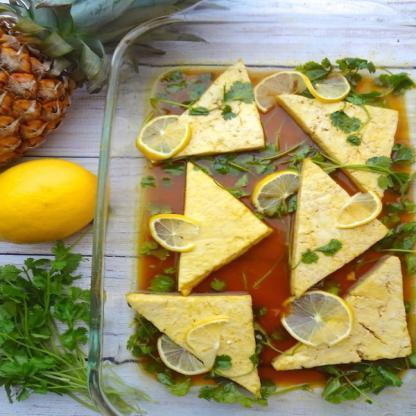lemon: (0, 159, 98, 243)
